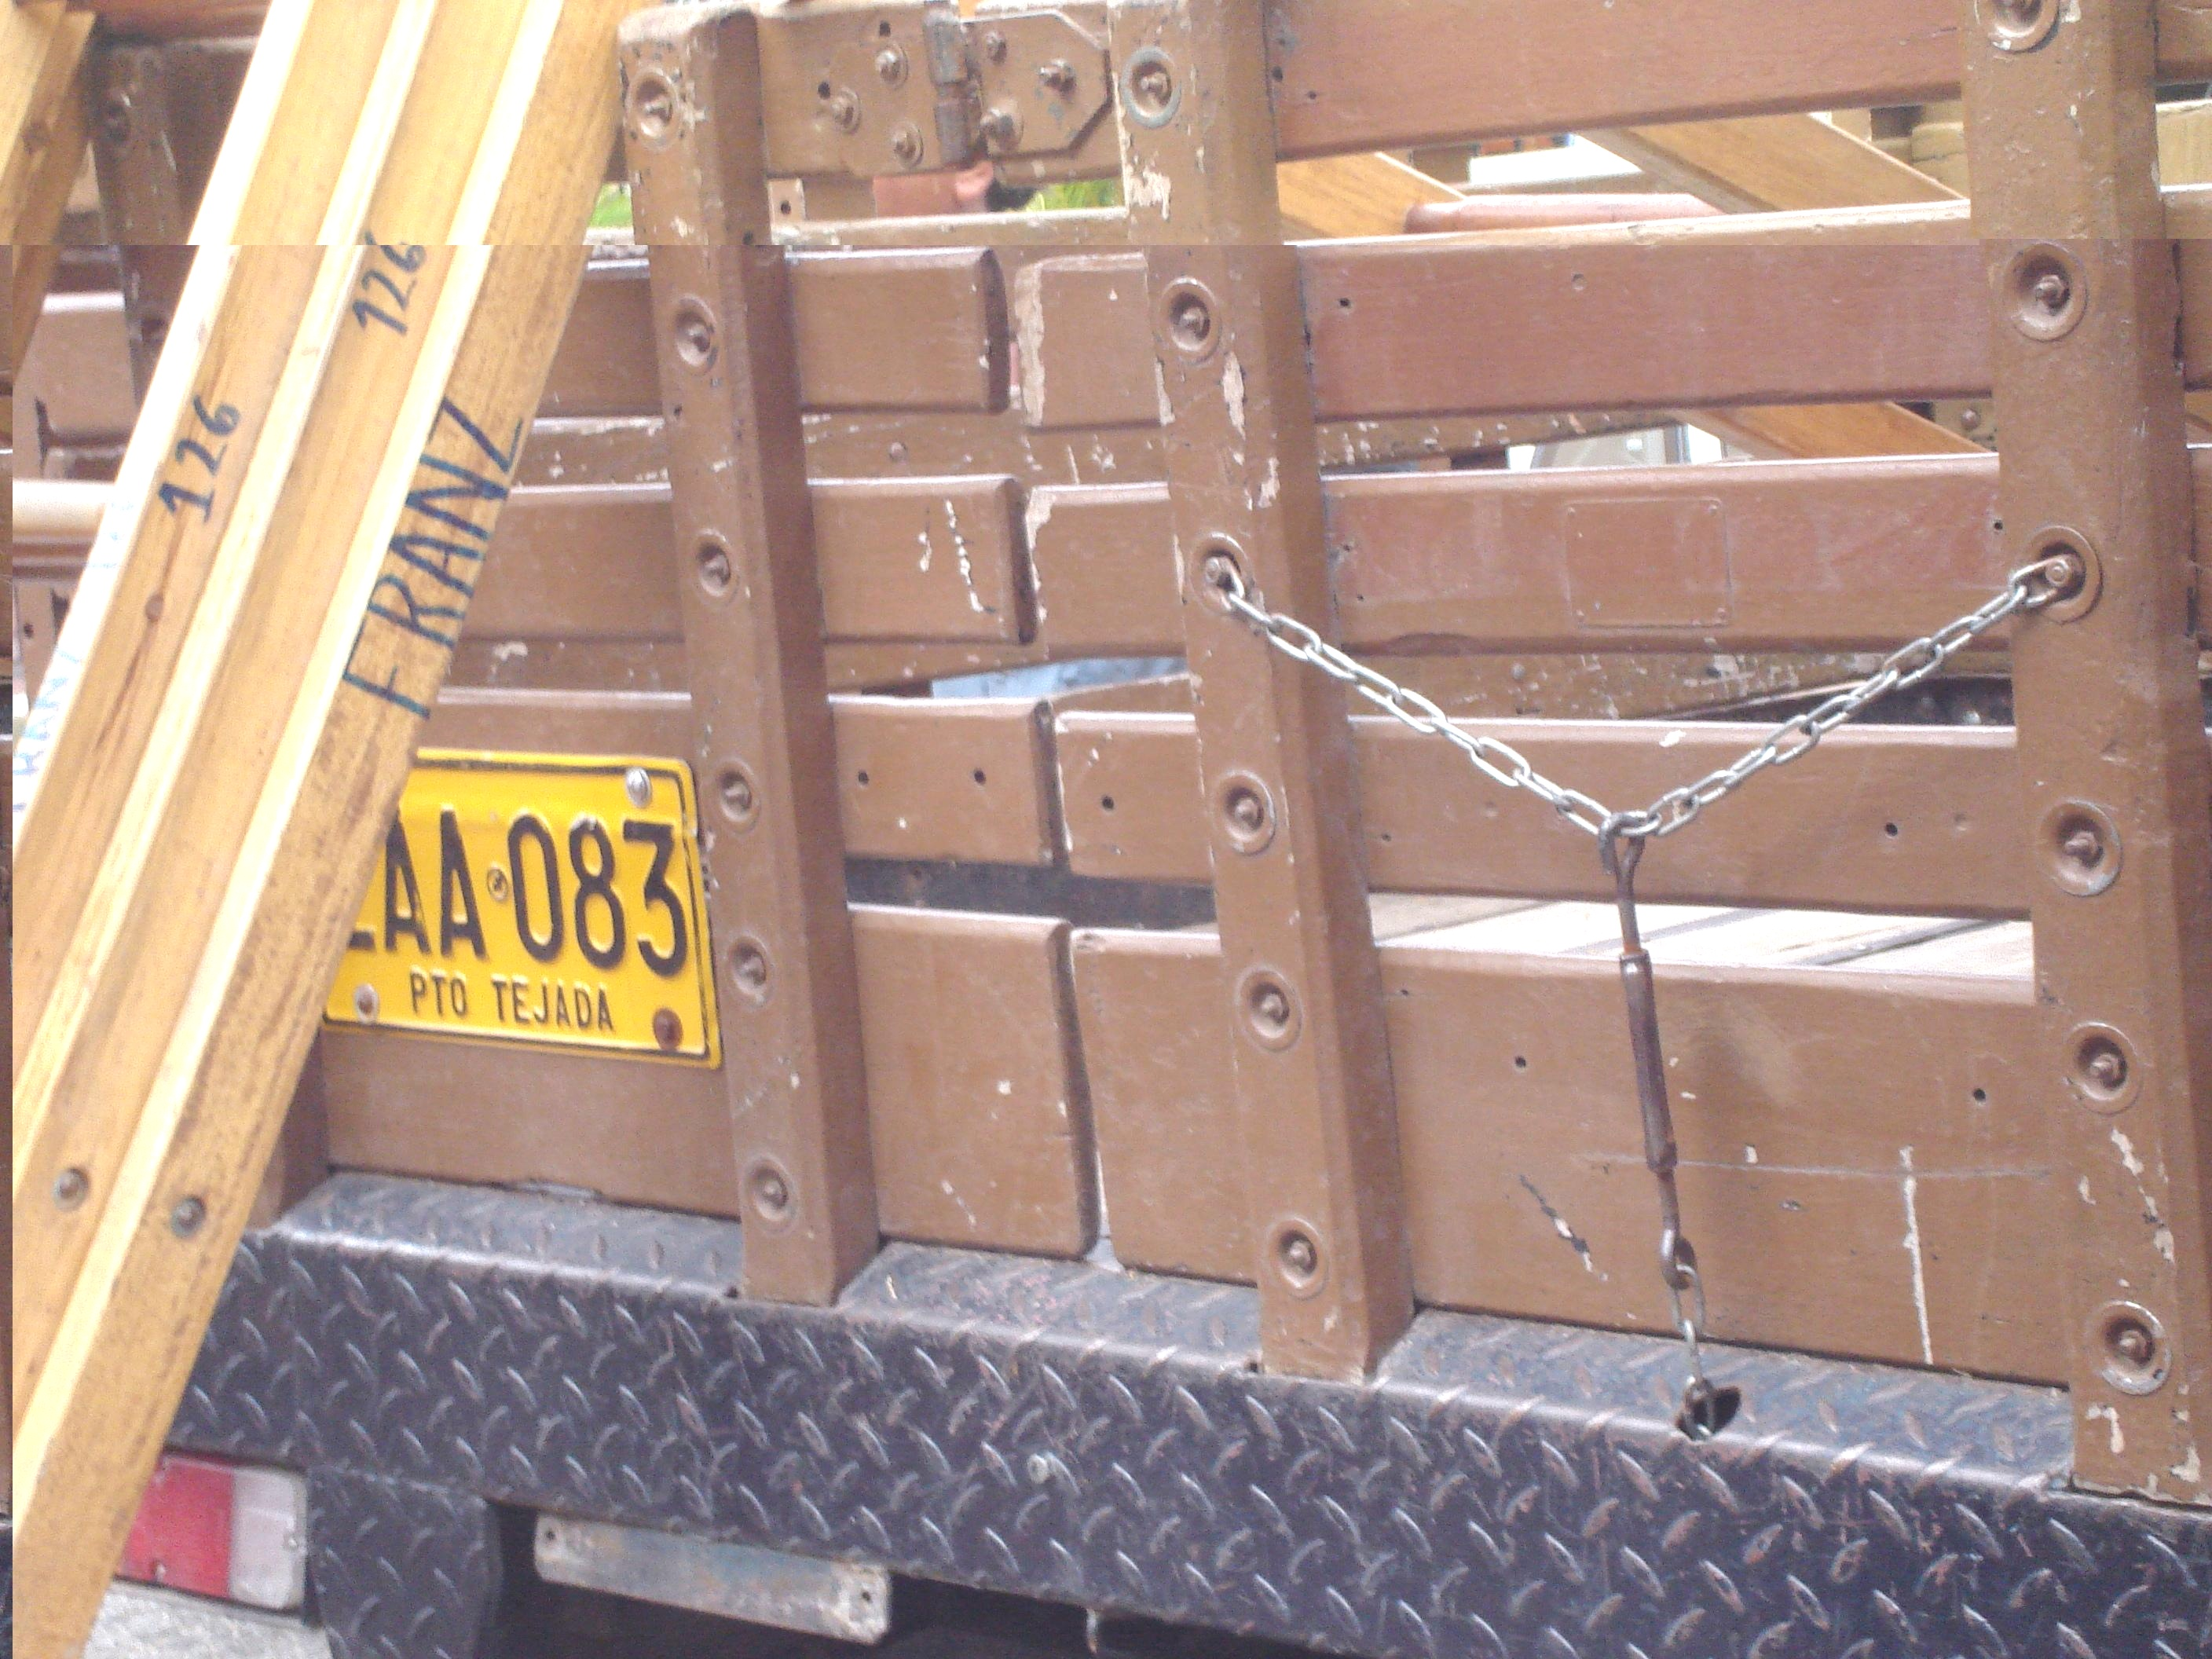placas: (270, 742, 727, 1075)
